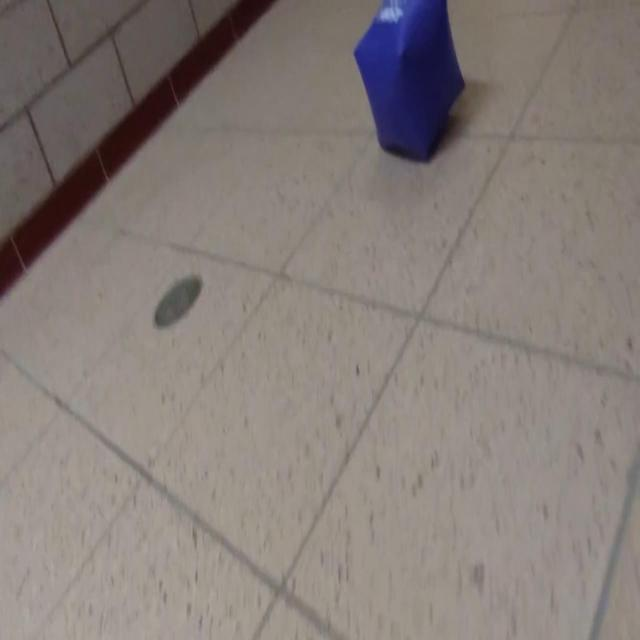frc_cube: (350, 4, 462, 164)
